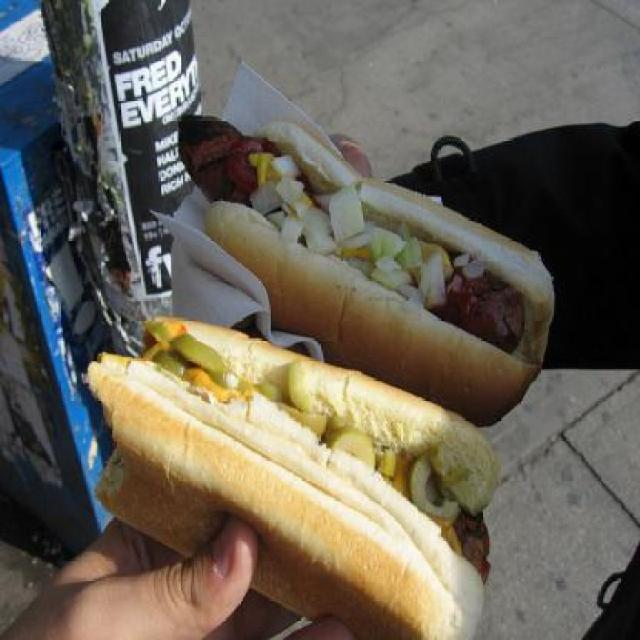Person: (394, 117, 638, 372), (1, 514, 353, 634)
